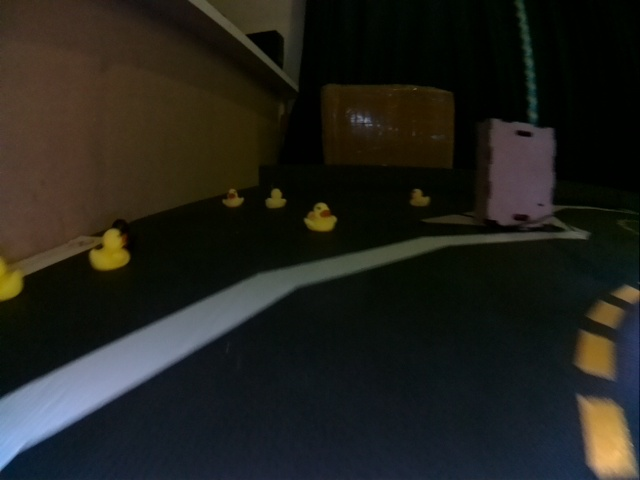Duckie: (90, 228, 130, 269), (304, 203, 337, 232), (266, 189, 287, 209), (222, 189, 245, 207), (410, 188, 431, 206)
